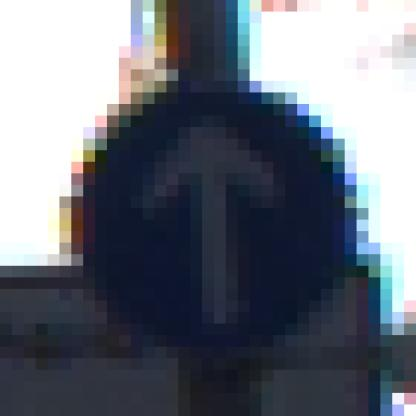AheadOnly: (61, 71, 358, 360)
